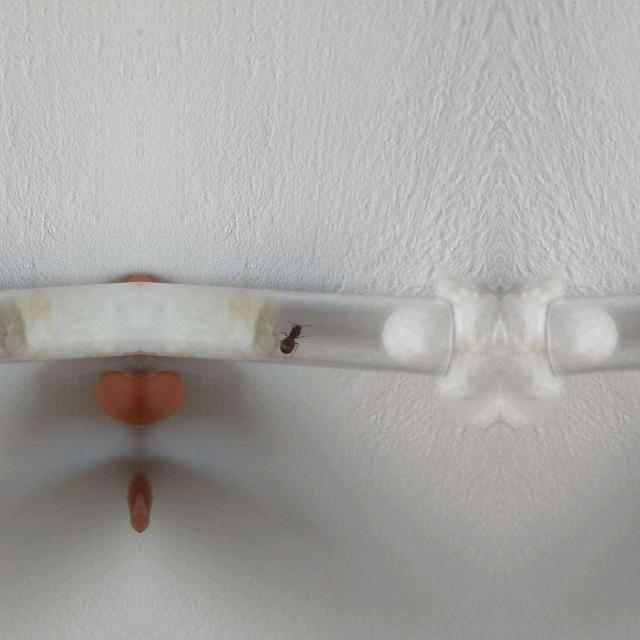Lasius: (272, 317, 310, 359)
